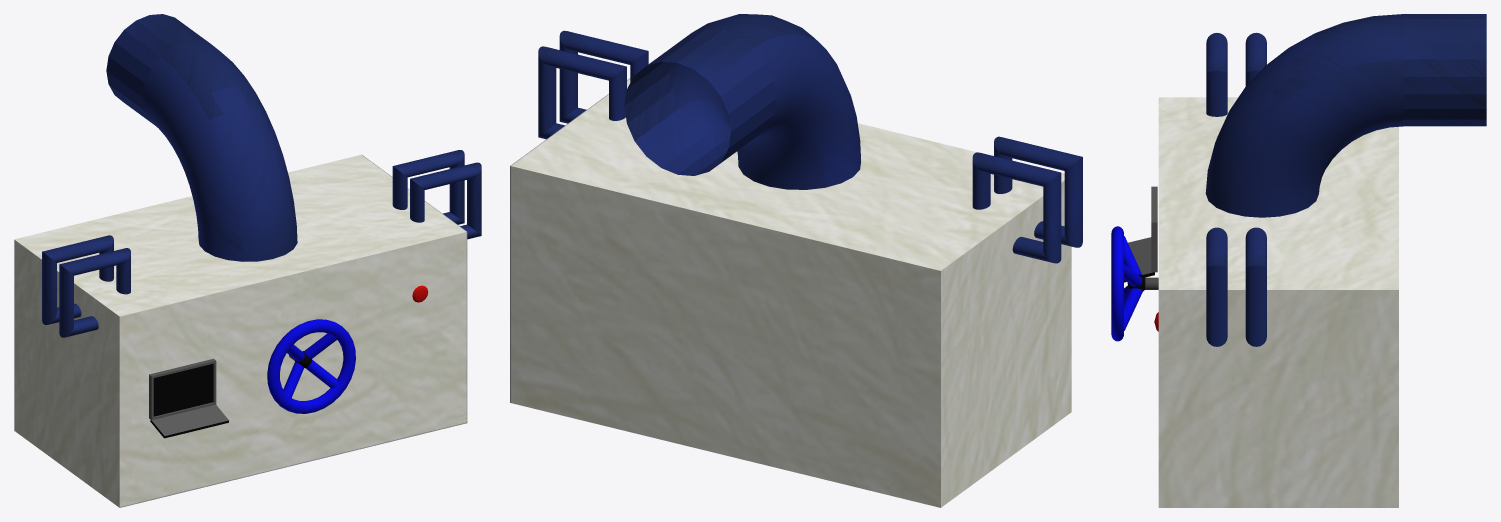
File: Valve (2).fbx
3 views of the same model, side by side, from view 1: azimuth 30°, elevation 25°; view 2: azimuth 150°, elevation 25°; view 3: azimuth 270°, elevation 25° (orthographic). The views are drawn at different scales.
Visible parts, largest first — view 1: polySurface69; view 2: polySurface69; view 3: polySurface69.
Part boxes in pixels (x1,y1,x2,y2): polySurface69: [14, 14, 481, 507]; polySurface69: [510, 14, 1082, 507]; polySurface69: [1111, 14, 1486, 507].
Size of the model in its own units: 10.39 by 8.18 by 7.08.
8 materials, 2 textured.
